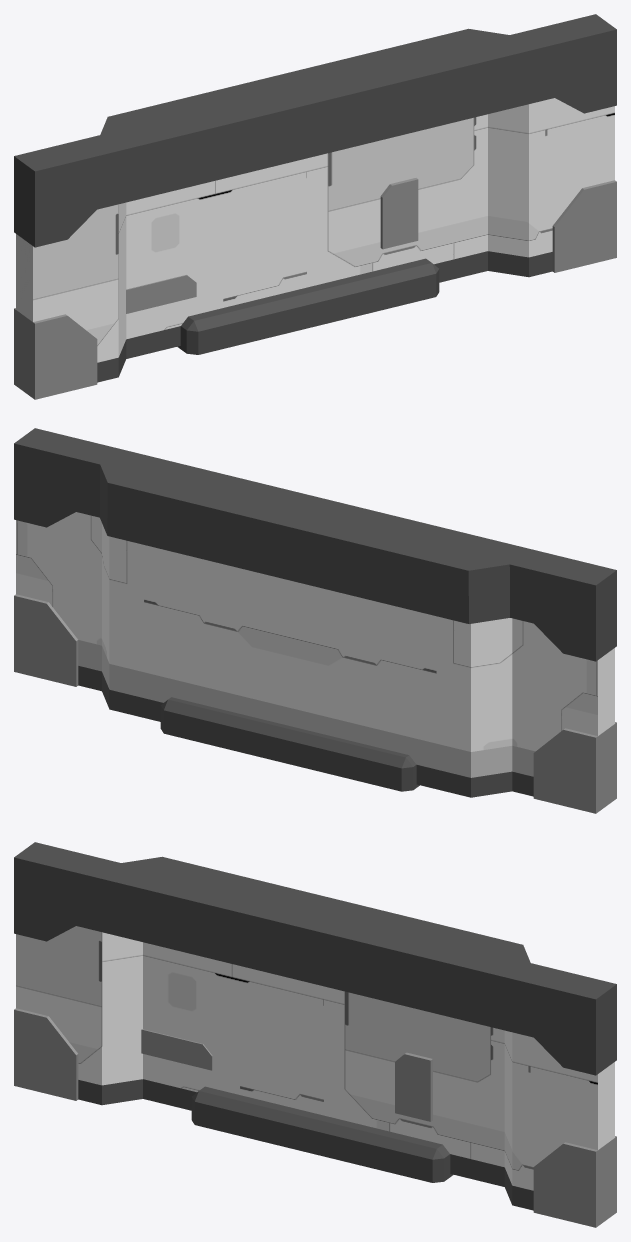
File: SM_Wall_8x3_2.fbx
3 views of the same model, one above another, from view 1: azimuth 30°, elevation 25°; view 2: azimuth 150°, elevation 25°; view 3: azimuth 330°, elevation 25° (orthographic).
Parts seen in each view (by area): view 1: SM_Wall_8x3_2; view 2: SM_Wall_8x3_2; view 3: SM_Wall_8x3_2.
Part boxes in pixels (<box>): SM_Wall_8x3_2: <box>14,14,616,399</box>; SM_Wall_8x3_2: <box>14,428,616,813</box>; SM_Wall_8x3_2: <box>14,842,616,1227</box>.
Size of the model in its own units: 800 by 305 by 103.
